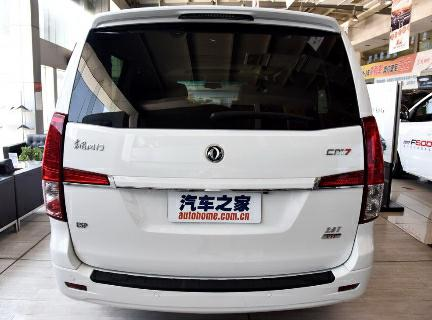东风风行-风行CM7: (38, 8, 378, 313)
